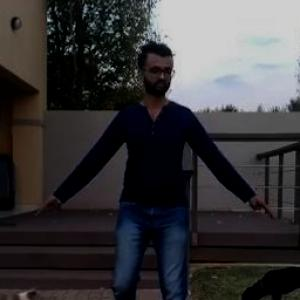land: (63, 63, 245, 299)
